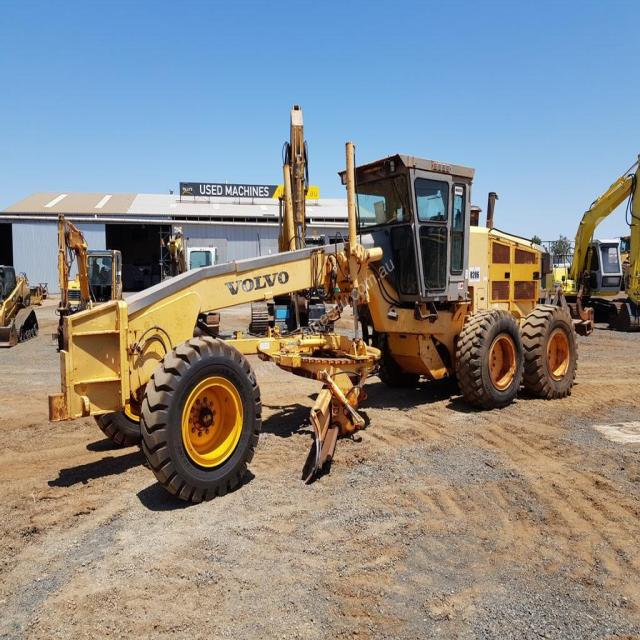Grader: (37, 100, 605, 509)
